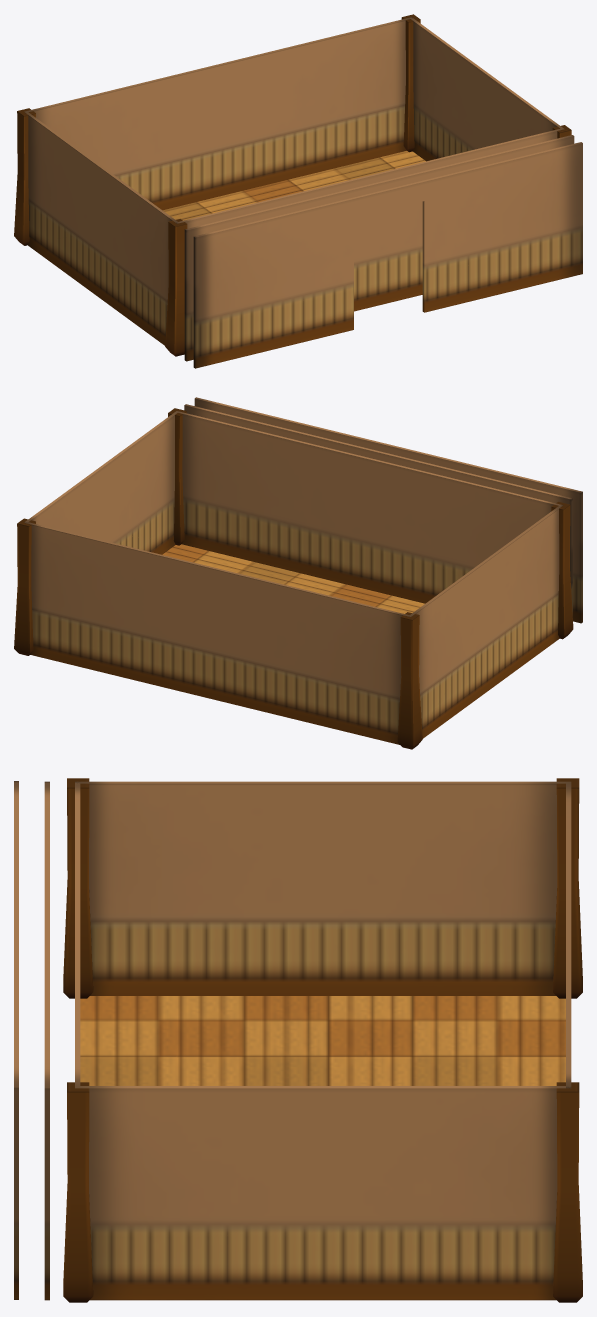
Rendered from Room_01.FBX.
3 views of the same model, one above another, from view 1: azimuth 30°, elevation 25°; view 2: azimuth 150°, elevation 25°; view 3: azimuth 270°, elevation 25° (orthographic). The views are drawn at different scales.
Parts seen in each view (by area): view 1: Wall_Door_01_single001, Room1_Wall006, Room1_Wall005, Room1_Wall008, Room1_Wall007, Wall_Door_01_double001, Room_1_Floor001, Pillar002, Room1_Pillars001, Pillar001; view 2: Room1_Wall006, Room1_Wall007, Room1_Wall005, Room1_Wall008, Wall_Door_01_single001, Wall_Door_01_double001, Room_1_Floor001, Room1_Pillars001, Pillar001, Pillar002, Pillar; view 3: Room1_Wall005, Room1_Wall008, Room_1_Floor001, Pillar, Pillar001, Pillar002, Room1_Pillars001, Wall_Door_01_double001, Wall_Door_01_single001, Room1_Wall007, Room1_Wall006.
Part boxes in pixels (x1,y1,x2,y2): Wall_Door_01_single001: [193, 142, 582, 368]; Room1_Wall006: [25, 17, 412, 210]; Room1_Wall005: [24, 111, 177, 345]; Room1_Wall008: [410, 17, 564, 161]; Room1_Wall007: [176, 128, 563, 311]; Wall_Door_01_double001: [184, 135, 574, 361]; Room_1_Floor001: [163, 151, 425, 220]; Pillar002: [165, 219, 187, 356]; Room1_Pillars001: [14, 108, 35, 245]; Pillar001: [401, 14, 420, 152]; Room1_Wall006: [24, 522, 409, 744]; Room1_Wall007: [175, 411, 562, 603]; Room1_Wall005: [408, 506, 561, 738]; Room1_Wall008: [25, 412, 177, 554]; Wall_Door_01_single001: [194, 397, 582, 623]; Wall_Door_01_double001: [184, 404, 572, 617]; Room_1_Floor001: [162, 544, 424, 613]; Room1_Pillars001: [397, 612, 422, 749]; Pillar001: [14, 518, 35, 655]; Pillar002: [551, 501, 573, 639]; Pillar: [168, 408, 186, 545]; Room1_Wall005: [77, 781, 571, 995]; Room1_Wall008: [80, 1086, 569, 1300]; Room_1_Floor001: [80, 996, 565, 1085]; Pillar: [63, 1082, 93, 1302]; Pillar001: [553, 1082, 582, 1302]; Pillar002: [63, 778, 93, 998]; Room1_Pillars001: [553, 778, 582, 998]; Wall_Door_01_double001: [44, 781, 49, 1300]; Wall_Door_01_single001: [14, 781, 18, 1299]; Room1_Wall007: [75, 781, 80, 1088]; Room1_Wall006: [566, 782, 571, 1088].
Bounding box in the file's own units: 293 × 91.45 × 222.
